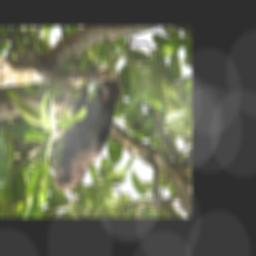Crow: (46, 69, 121, 194)
